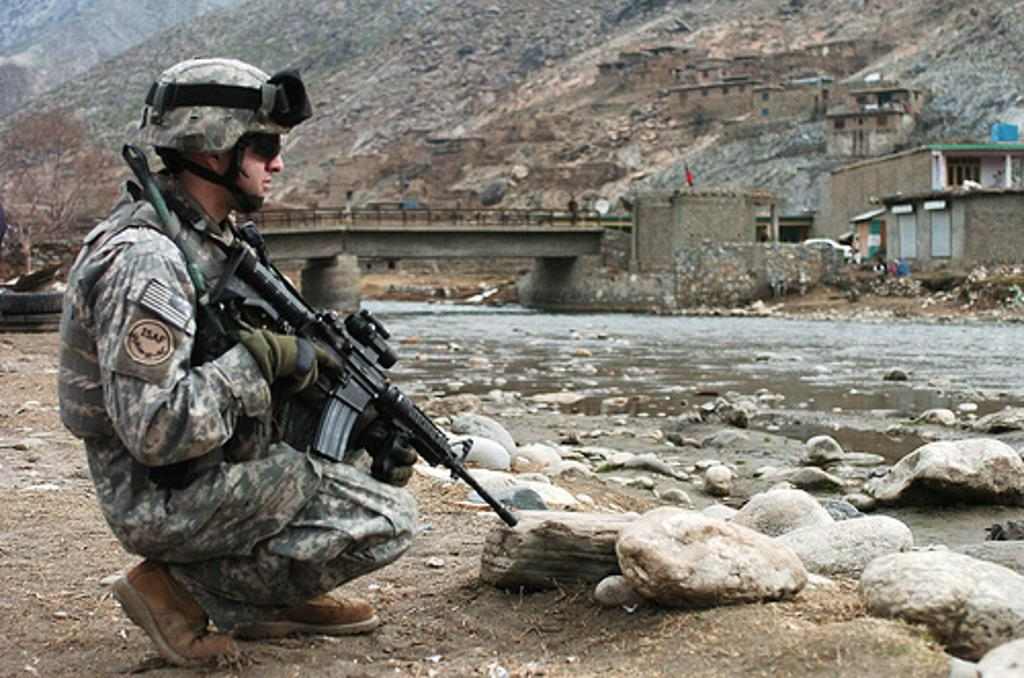face: (215, 99, 285, 203)
